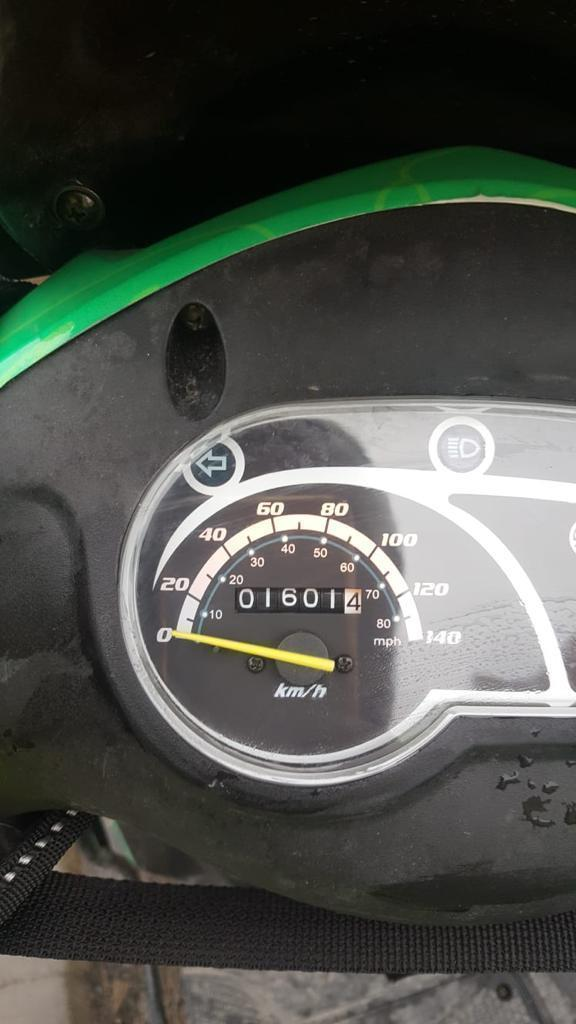0: (237, 588, 255, 609), (301, 589, 318, 611)
1: (328, 588, 338, 613), (263, 586, 273, 609)
4: (344, 590, 362, 611)
6: (279, 587, 299, 608)
odometer: (233, 586, 364, 616)
